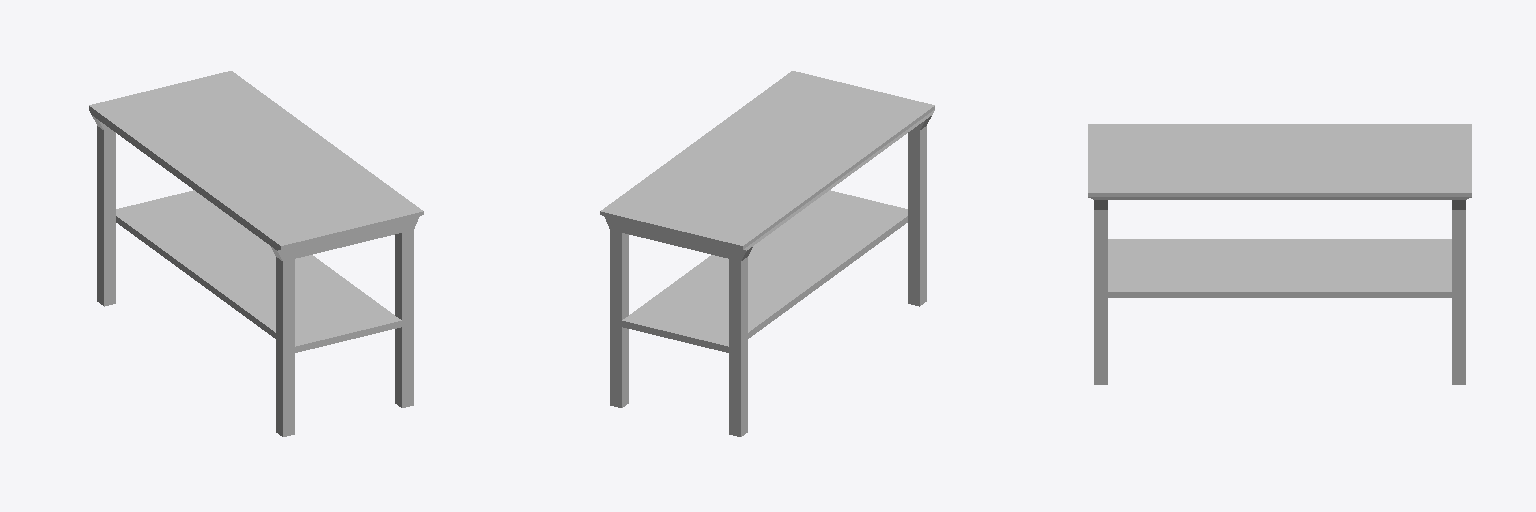
File: Table.obj
3 renders of one model, left to right at view 1: azimuth 30°, elevation 25°; view 2: azimuth 150°, elevation 25°; view 3: azimuth 270°, elevation 25°, orthographic.
Parts seen in each view (by area): view 1: Cylinder.001_Cylinder.003; view 2: Cylinder.001_Cylinder.003; view 3: Cylinder.001_Cylinder.003.
Boxes of the visible parts, box(x1,y1,x2,y2) form: Cylinder.001_Cylinder.003: box(89, 71, 423, 436); Cylinder.001_Cylinder.003: box(600, 71, 934, 436); Cylinder.001_Cylinder.003: box(1088, 124, 1471, 384).
Size of the model in its own units: 0.6024 by 0.783 by 1.4.